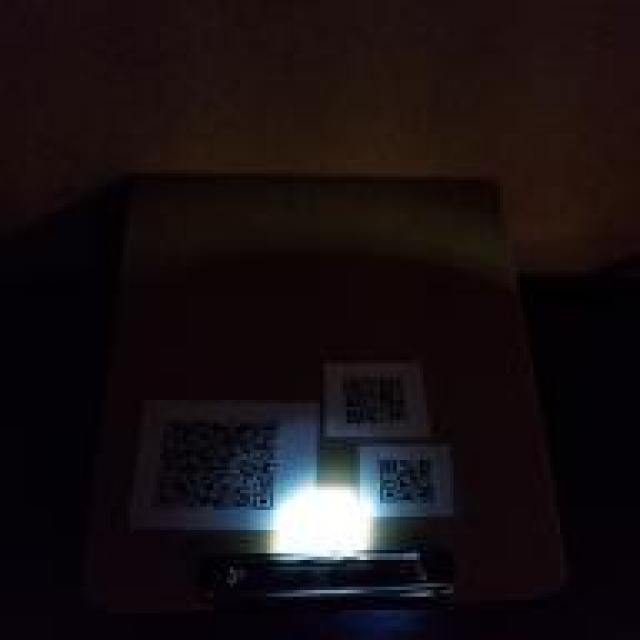QR_CODE: (146, 410, 296, 523), (333, 367, 422, 430), (377, 450, 448, 513)
